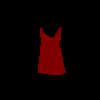canottiera: (37, 26, 66, 74)
